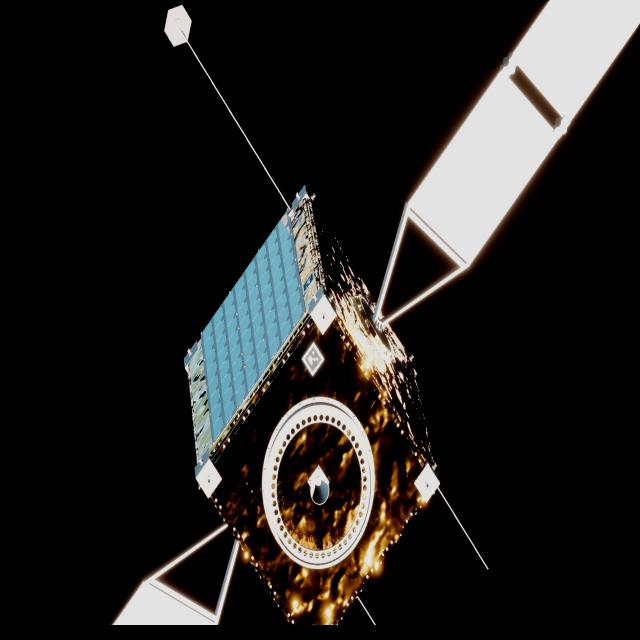satellite: (114, 0, 640, 629)
